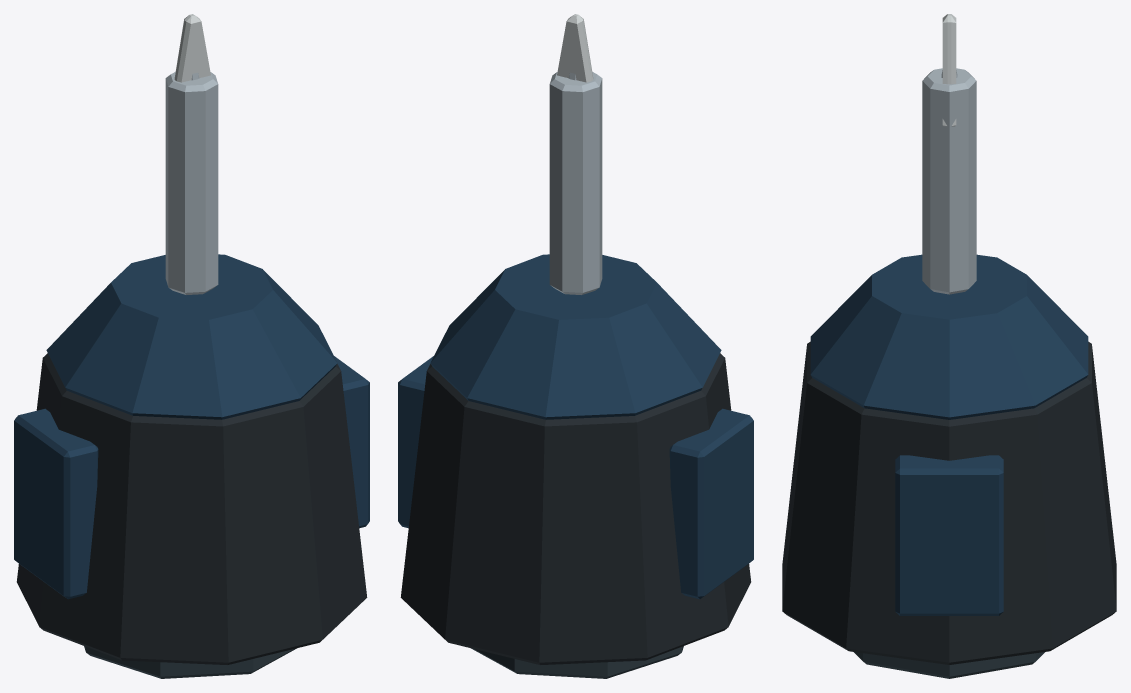
Rendered from b06_stubby_phillips_screwdriver.glb.
3 renders of one model, left to right at view 1: azimuth 30°, elevation 25°; view 2: azimuth 150°, elevation 25°; view 3: azimuth 270°, elevation 25°, orthographic.
Parts seen in each view (by area): view 1: b06_stubby_phillips_screwdriver; view 2: b06_stubby_phillips_screwdriver; view 3: b06_stubby_phillips_screwdriver.
Part boxes in pixels (x1,y1,x2,y2): b06_stubby_phillips_screwdriver: (14, 14, 369, 678); b06_stubby_phillips_screwdriver: (398, 14, 753, 678); b06_stubby_phillips_screwdriver: (782, 14, 1116, 678).
Size of the model in its own units: 0.052 by 0.1 by 0.0493.
